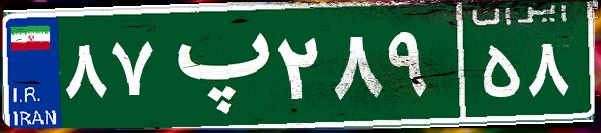2: (273, 28, 330, 110)
5: (475, 38, 525, 113)
7: (110, 28, 158, 105)
8: (330, 28, 385, 110), (57, 26, 110, 107), (525, 38, 570, 115)
9: (385, 28, 445, 110)
پ: (158, 15, 273, 115)
